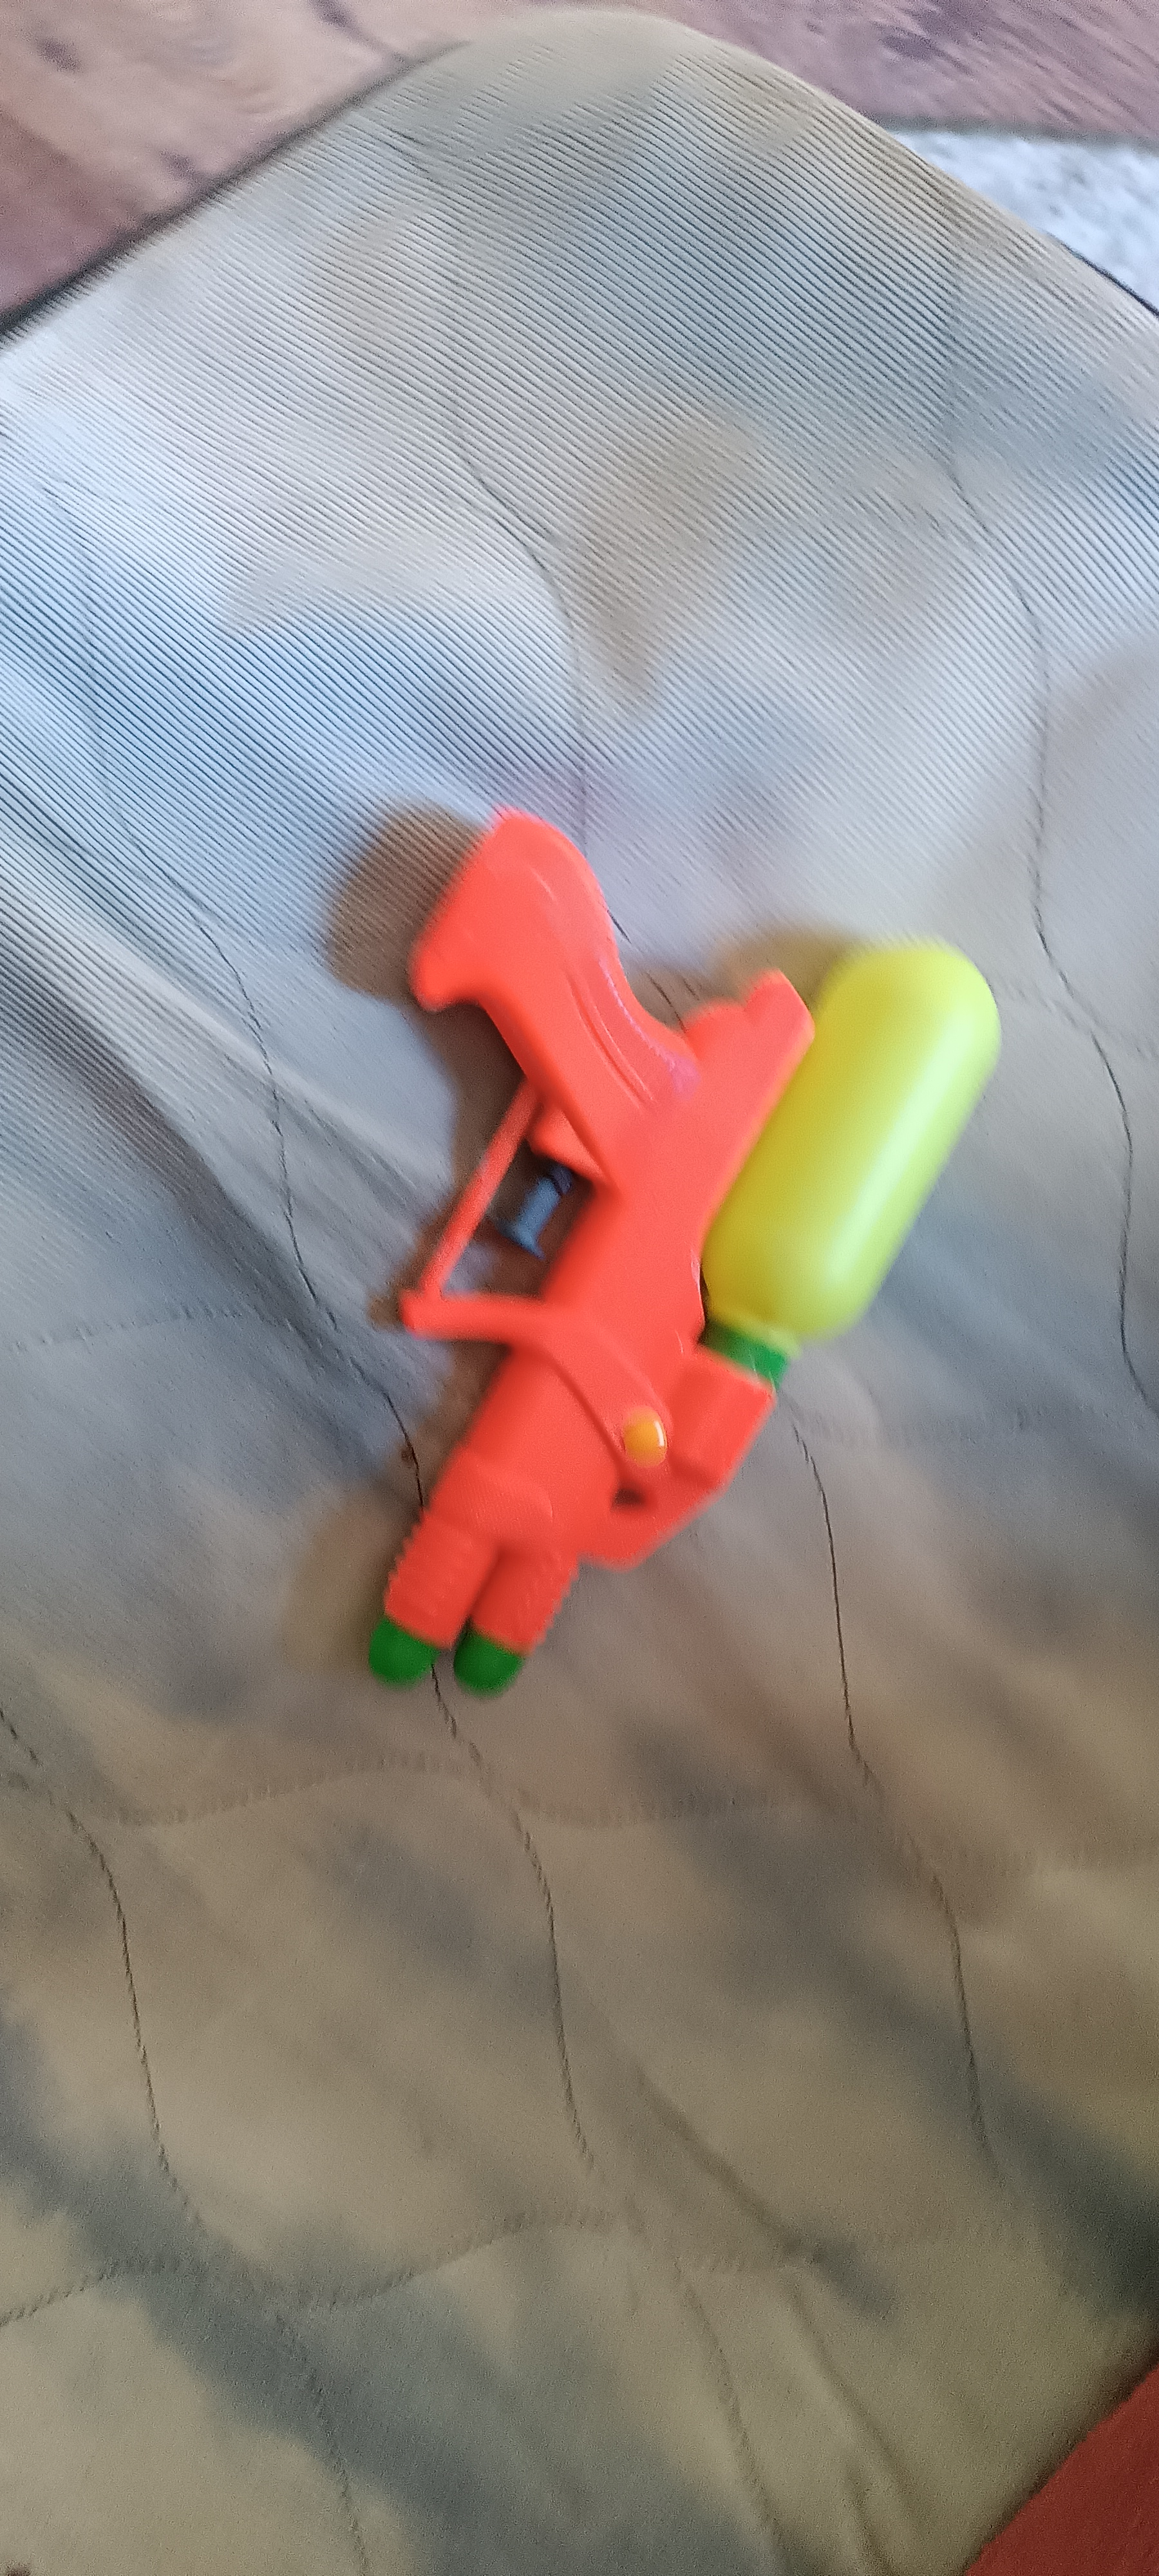Water Gun: (368, 810, 1003, 1695)
